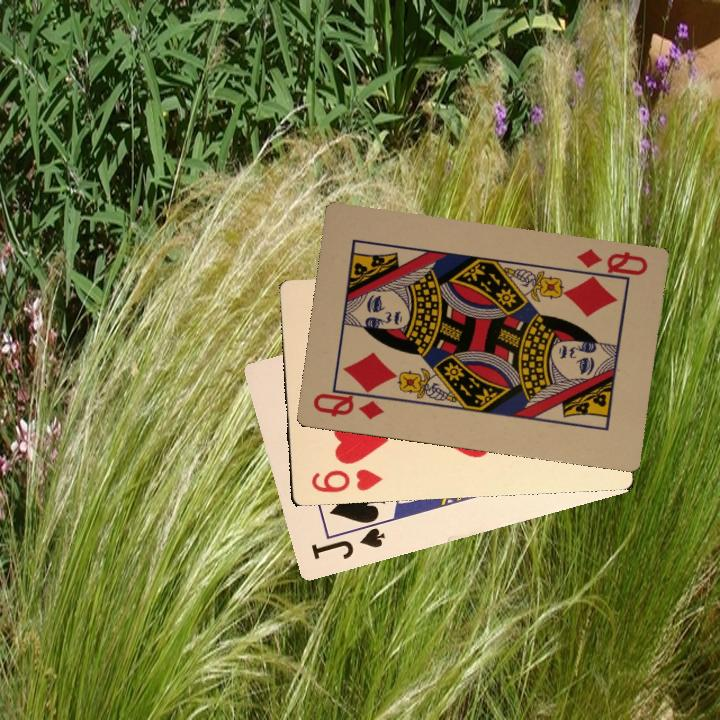6h: (308, 464, 382, 495)
Js: (307, 517, 386, 562)
Qd: (571, 245, 650, 287), (309, 386, 393, 423)
